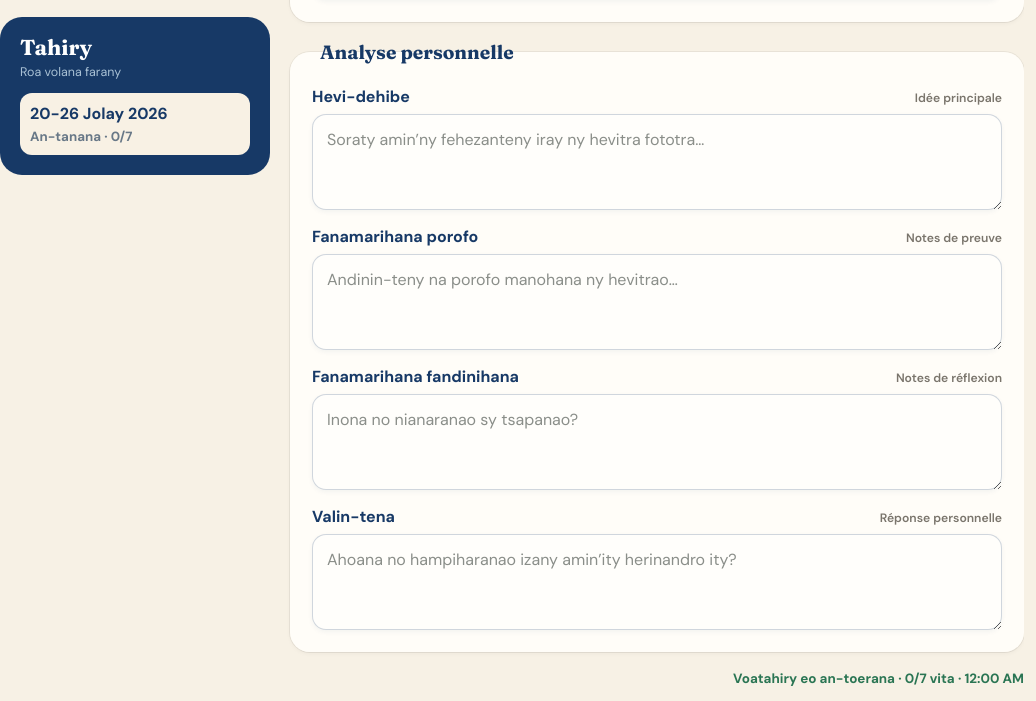
Test case: PreparationWorkspace › reports a local persistence error without breaking the editor
(page scrolled)
In the text box labelled "Valin-tena Réponse personnelle": (657,582) [312,534,1002,630], type "Réponse conservée en mémoire"
(page scrolled)
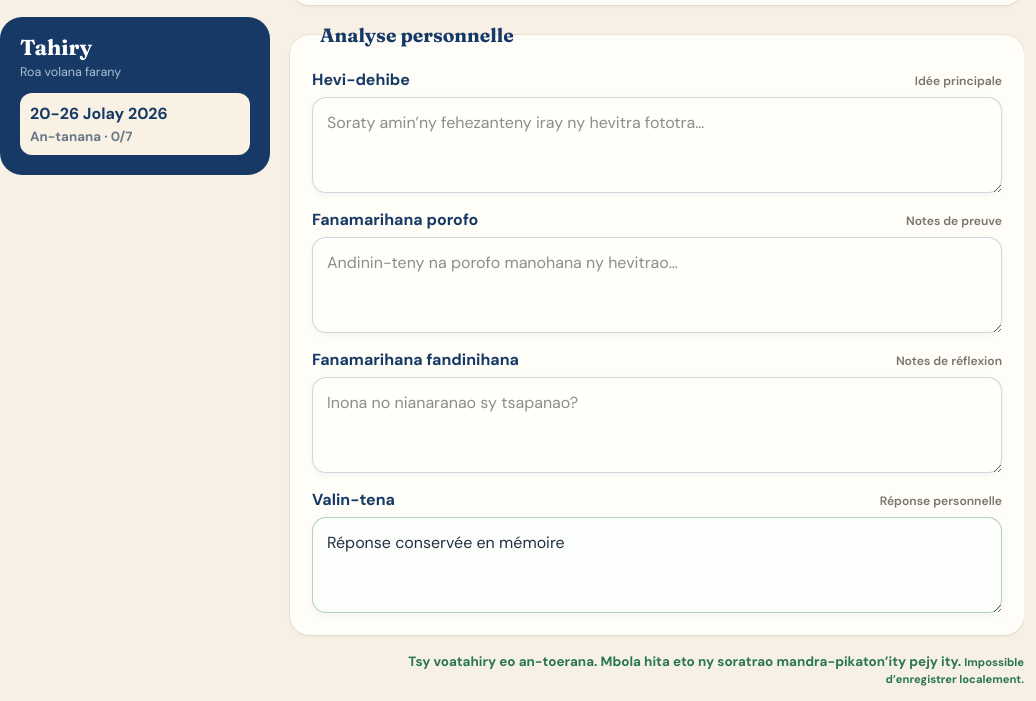
Result: the message shows "Impossible d’enregistrer localement" at [886,656,1024,686]
